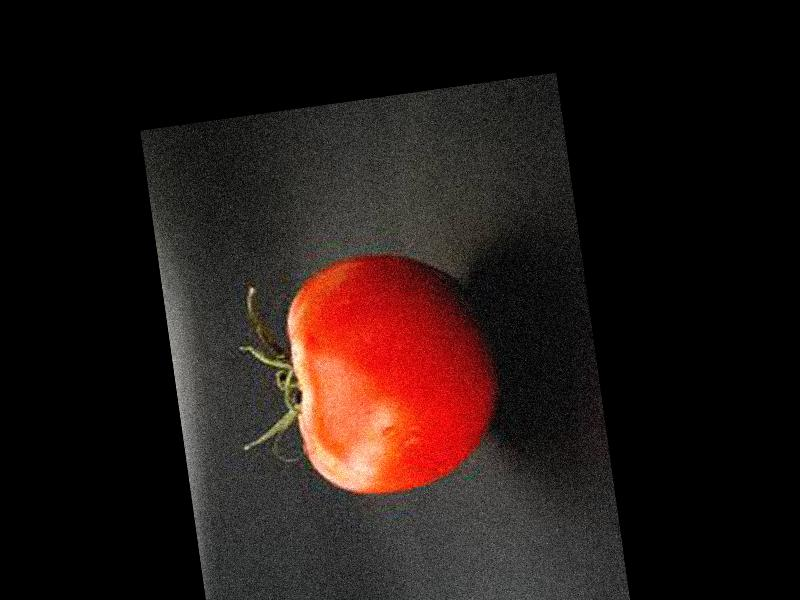Tomato: (278, 242, 509, 506)
